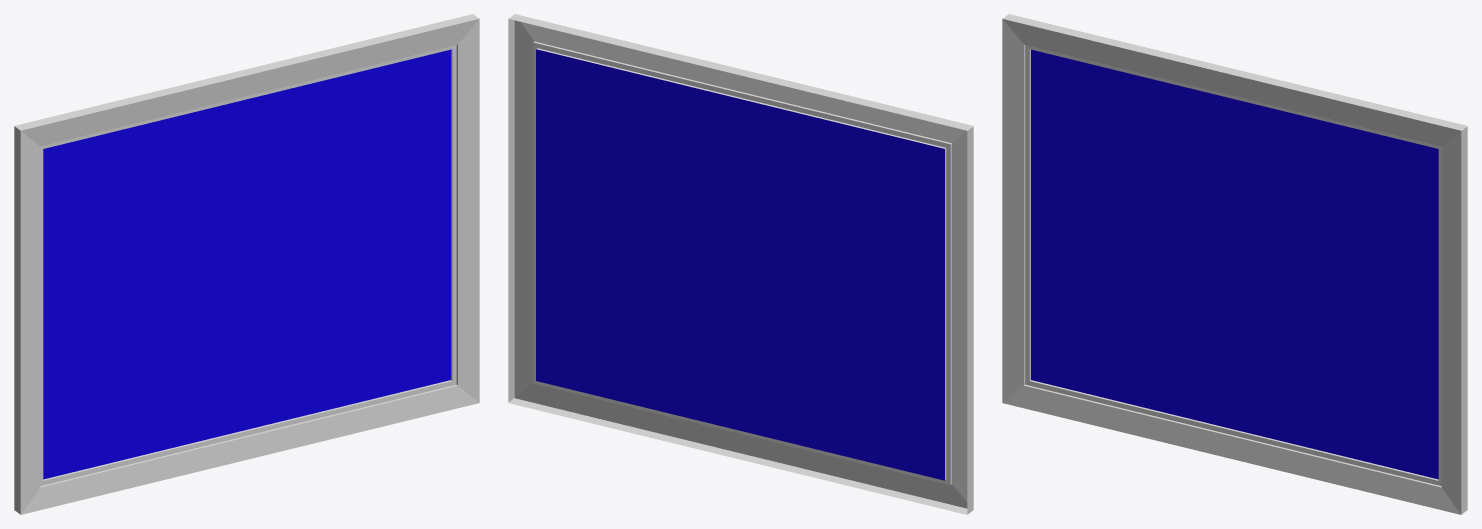
Rendered from Mirror.FBX.
3 renders of one model, left to right at view 1: azimuth 30°, elevation 25°; view 2: azimuth 150°, elevation 25°; view 3: azimuth 330°, elevation 25°, orthographic.
Parts seen in each view (by area): view 1: Mirror; view 2: Mirror; view 3: Mirror.
Boxes of the visible parts, x1,y1,x2,y2 form: Mirror: (14,14,479,514); Mirror: (508,14,973,514); Mirror: (1002,14,1467,514).
Bounding box in the file's own units: 81.16 × 64.92 × 2.01.
